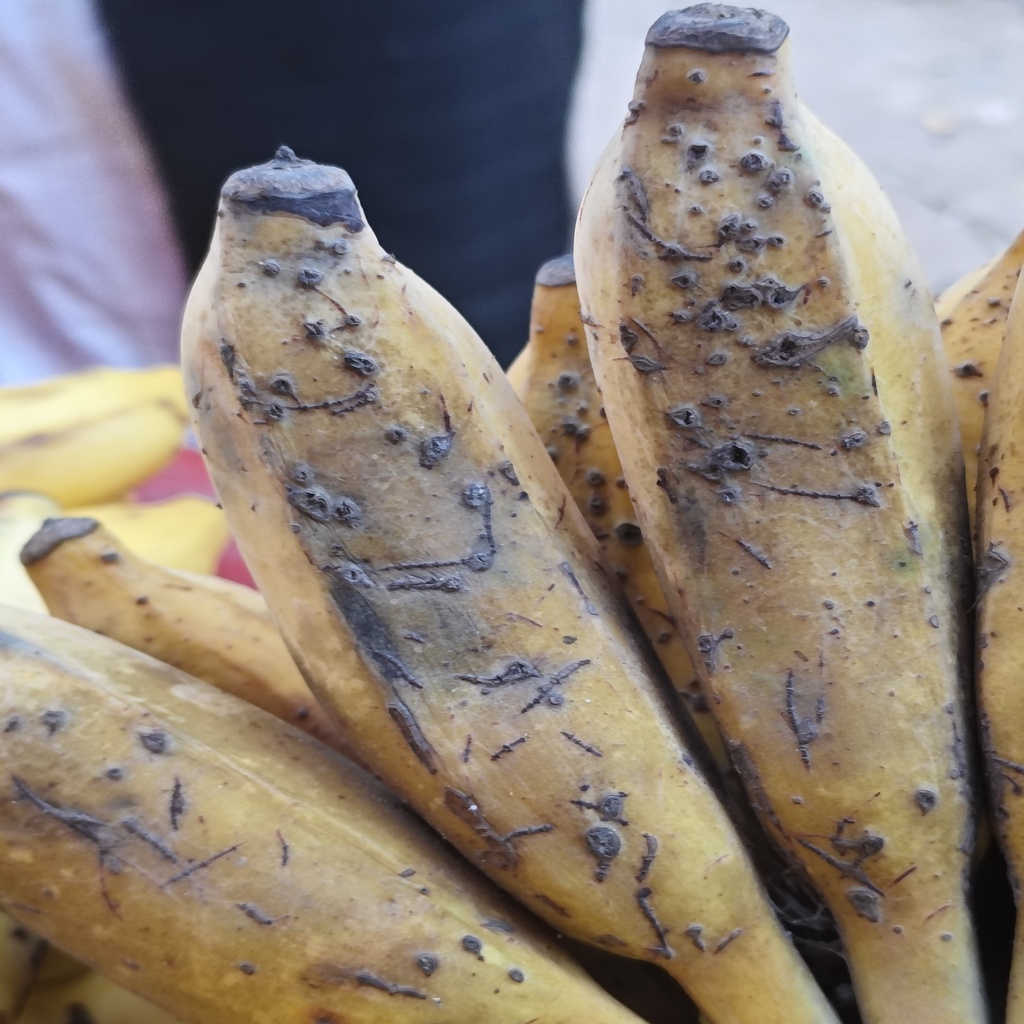unhealthy: (181, 157, 759, 960), (575, 12, 976, 916)
